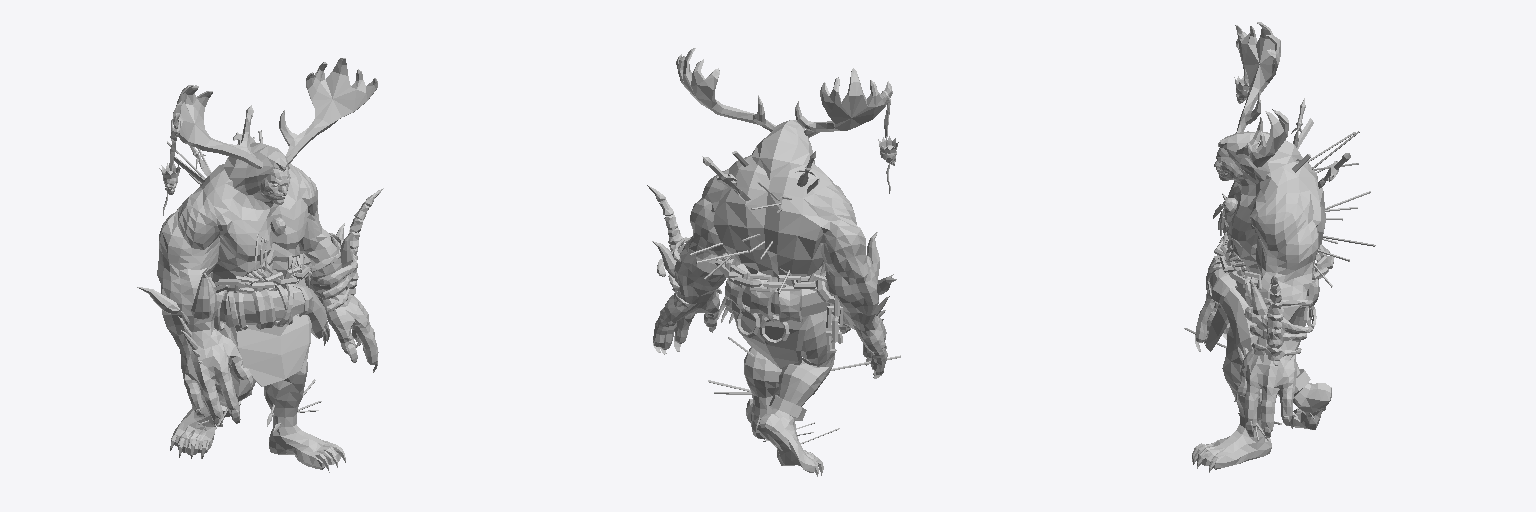
Rendered from walking_000015.obj.
The picture shows the model from 3 angles: view 1: azimuth 30°, elevation 25°; view 2: azimuth 150°, elevation 25°; view 3: azimuth 270°, elevation 25°; orthographic projection.
Visible parts, largest first — view 1: MAW; view 2: MAW; view 3: MAW.
Boxes of the visible parts, x1=… form: MAW: x1=137, y1=58, x2=383, y2=472; MAW: x1=647, y1=48, x2=900, y2=476; MAW: x1=1184, y1=22, x2=1375, y2=472.
Bounding box in the file's own units: 15.54 × 23.47 × 10.3.